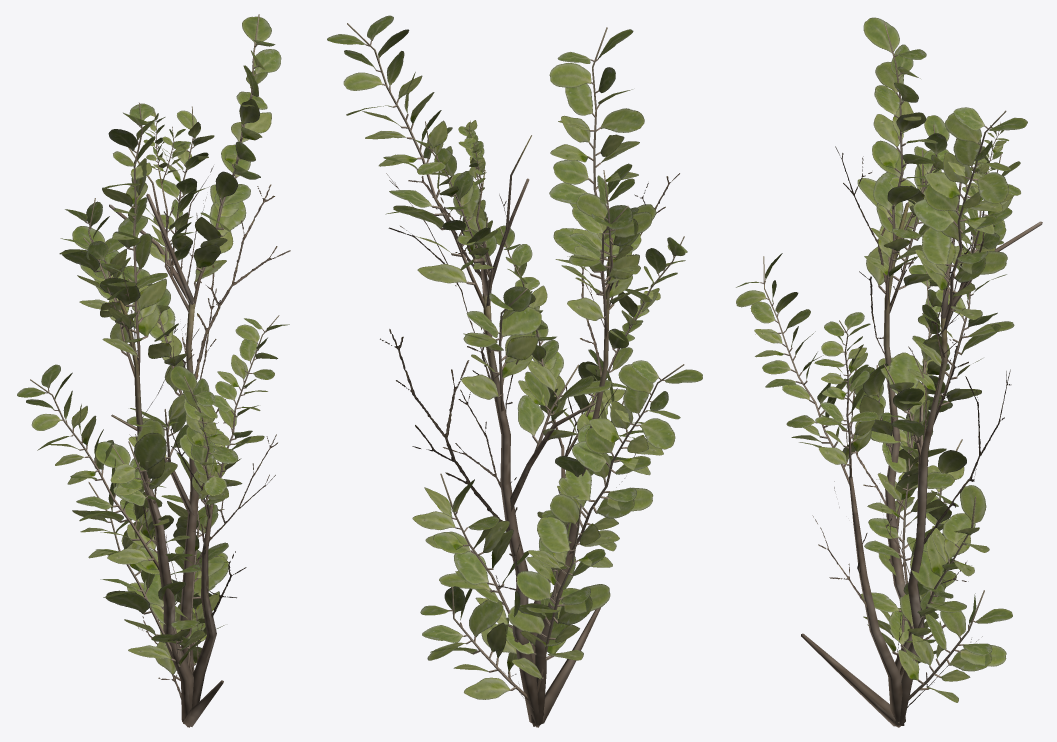
File: searsia_lucida_g_LOD0.glb
3 renders of one model, left to right at view 1: azimuth 30°, elevation 25°; view 2: azimuth 150°, elevation 25°; view 3: azimuth 270°, elevation 25°, orthographic. The views are drawn at different scales.
Parts seen in each view (by area): view 1: searsia_lucida_g_LOD0; view 2: searsia_lucida_g_LOD0; view 3: searsia_lucida_g_LOD0.
Part boxes in pixels (x1,y1,x2,y2): searsia_lucida_g_LOD0: (17,14,290,727); searsia_lucida_g_LOD0: (327,15,702,727); searsia_lucida_g_LOD0: (736,17,1042,727).
Size of the model in its own units: 0.3817 by 0.7868 by 0.3249.
Materials: 3 (3 with a texture image).
